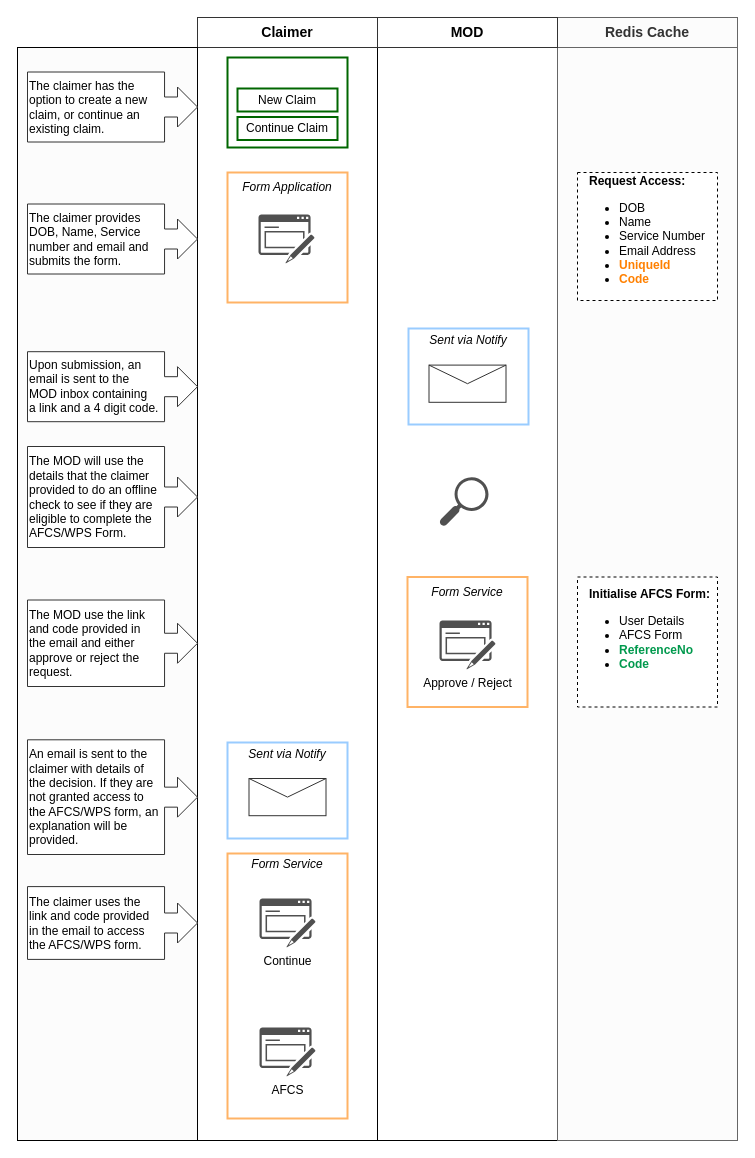
This 755x1158 diagram has some shape labels left out. Here are the shapes that lost their labels. From the top down, the box of each, then its label:
(226, 56, 348, 148): Gov.UK
(258, 214, 314, 263): Request Access
